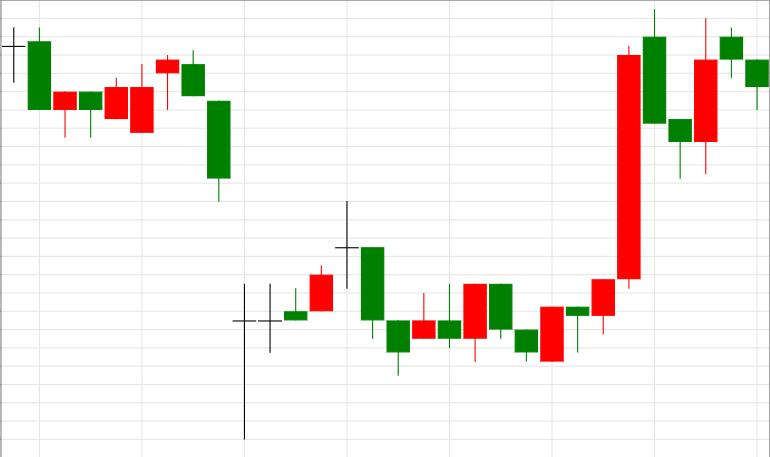evening_star_fall: (233, 201, 384, 440)
